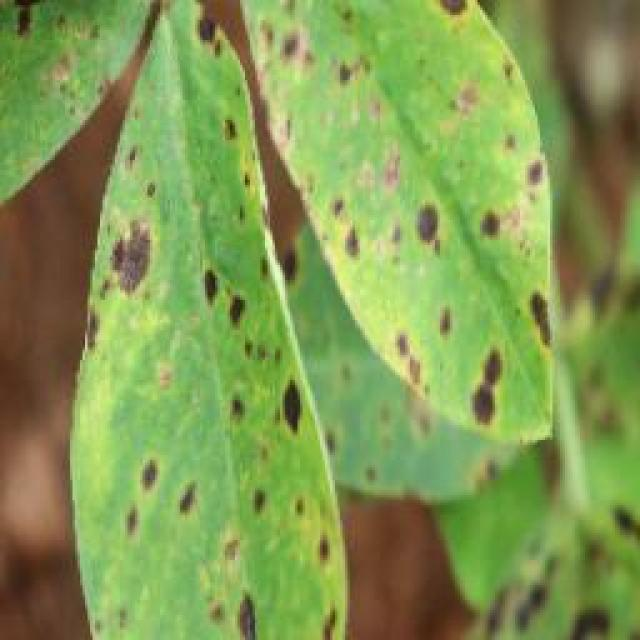Yellowish: (16, 0, 572, 631)
